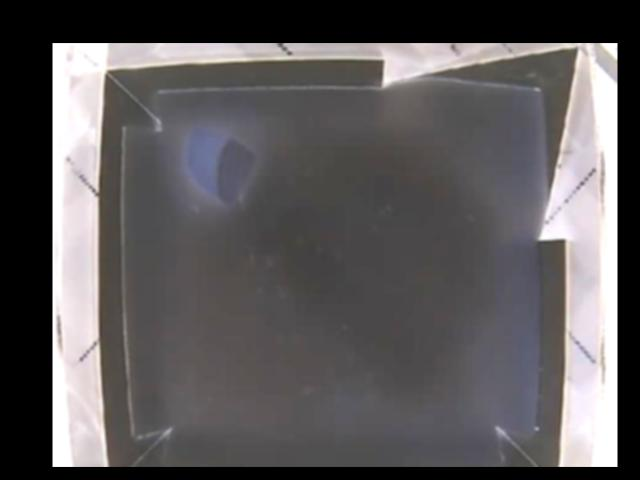Mooli: (185, 125, 256, 204)
